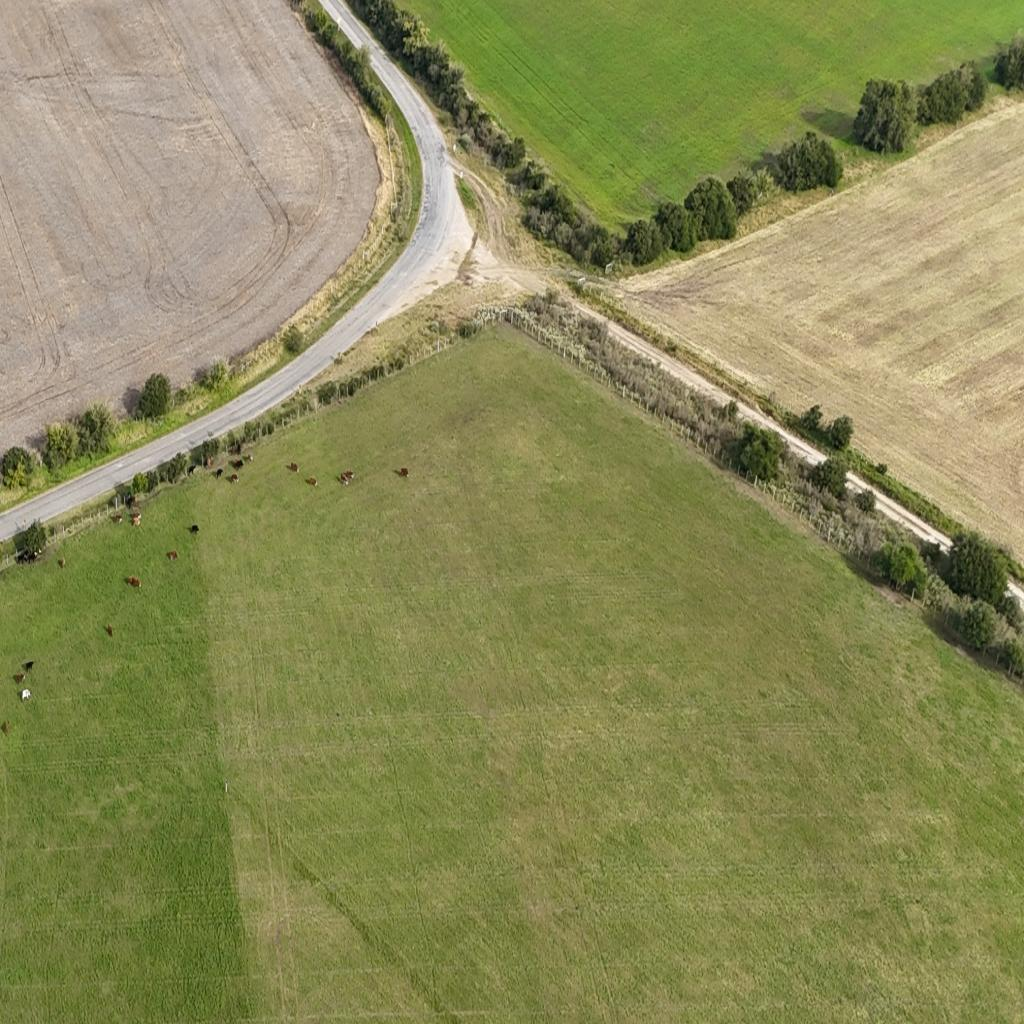cow: (126, 576, 141, 589), (339, 472, 349, 489), (22, 661, 35, 674), (232, 458, 244, 470), (127, 494, 137, 508), (132, 514, 142, 528), (14, 672, 25, 684), (21, 688, 31, 701), (1, 720, 10, 734), (305, 477, 317, 487), (213, 468, 223, 480), (34, 548, 44, 560), (398, 467, 408, 478), (17, 554, 26, 566), (244, 451, 253, 463), (288, 462, 298, 472), (168, 550, 178, 560), (228, 473, 238, 483), (189, 524, 199, 534), (114, 514, 123, 524), (188, 465, 196, 476), (106, 624, 113, 636), (347, 470, 355, 480), (58, 558, 66, 568), (206, 456, 212, 467)
